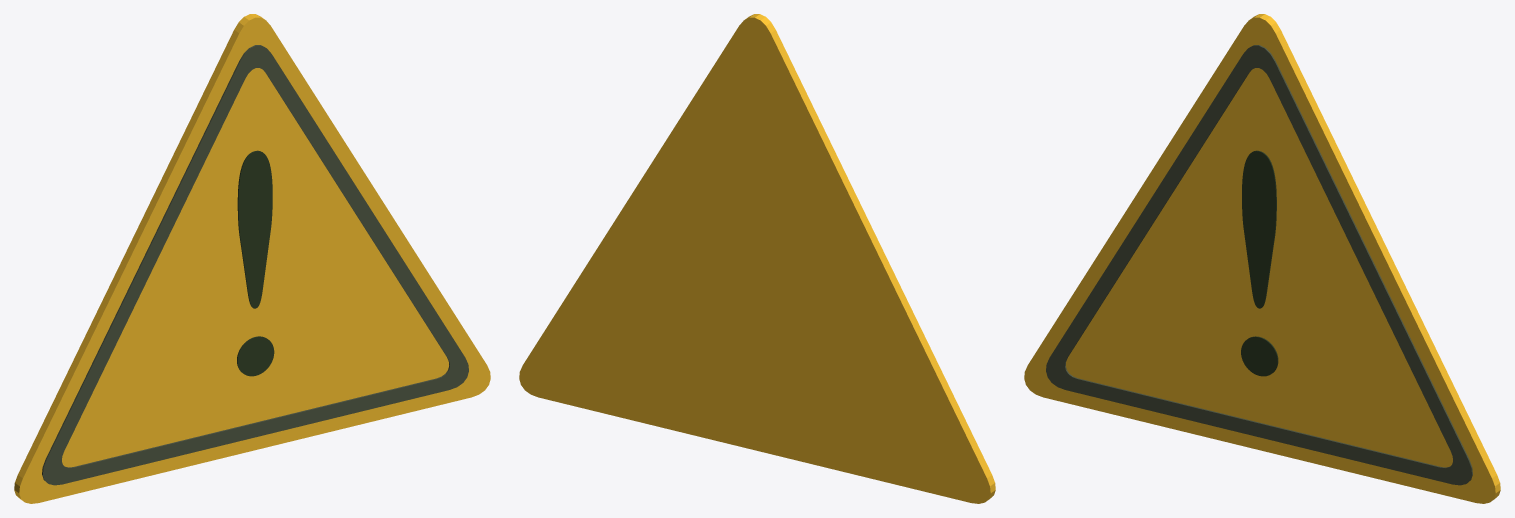
File: Rambu_Lalu_Lintas.fbx
3 views of the same model, side by side, from view 1: azimuth 30°, elevation 25°; view 2: azimuth 150°, elevation 25°; view 3: azimuth 330°, elevation 25° (orthographic).
Visible parts, largest first — view 1: Cylinder, Cylinder.001, Text; view 2: Cylinder; view 3: Cylinder, Cylinder.001, Text.
Boxes of the visible parts, x1,y1,x2,y2 form: Cylinder: (14, 14, 490, 503); Cylinder.001: (42, 45, 468, 485); Text: (237, 150, 274, 376); Cylinder: (519, 14, 995, 503); Cylinder: (1024, 14, 1500, 503); Cylinder.001: (1046, 45, 1472, 485); Text: (1241, 150, 1278, 376).
Bounding box in the file's own units: 165 × 144 × 3.66.
